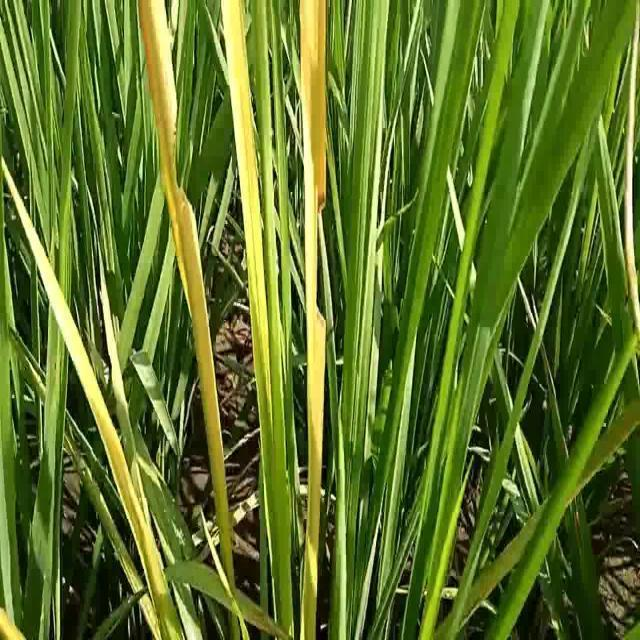Rice Tungro: (1, 154, 169, 604), (134, 3, 244, 548), (217, 2, 285, 462), (291, 3, 337, 428)
